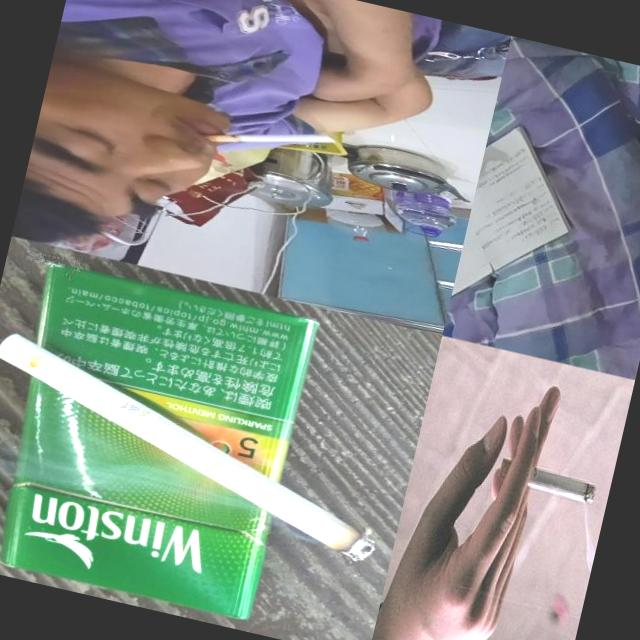smoke: (0, 329, 405, 565), (200, 107, 334, 168), (496, 458, 598, 506)
